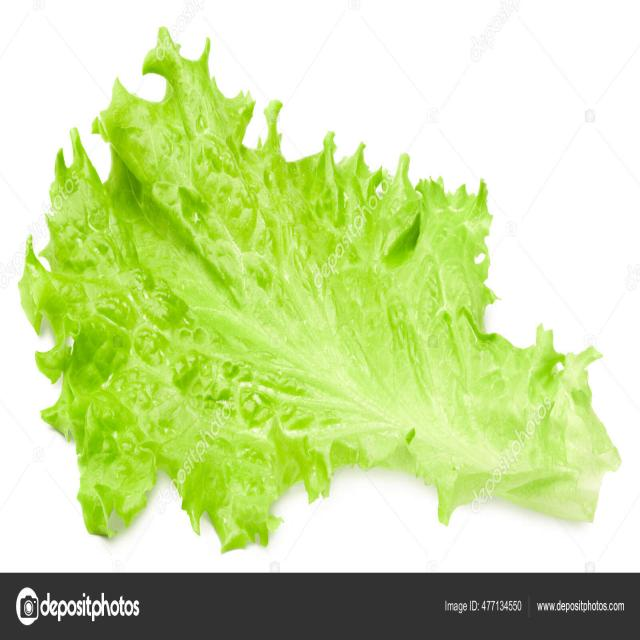lettuce: (17, 24, 622, 553)
